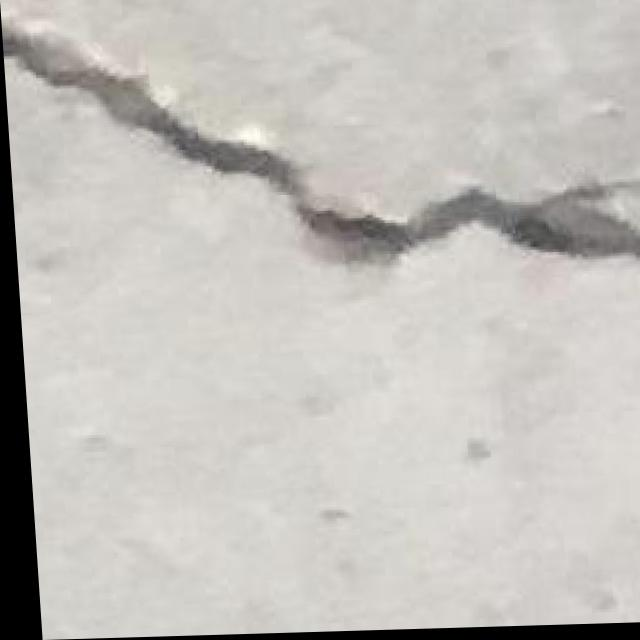Crack: (1, 14, 640, 304)
